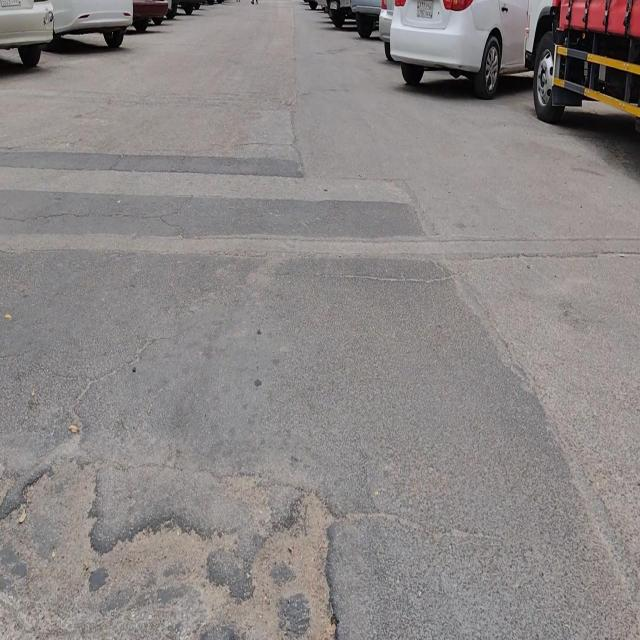Pothole: (219, 486, 339, 640)
